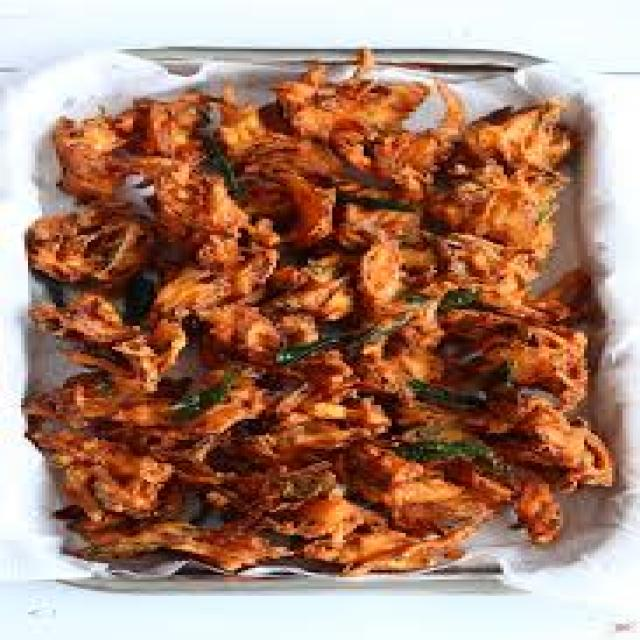BAJI: (24, 51, 612, 573)
